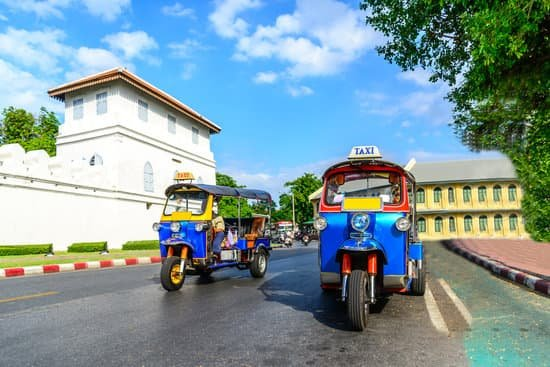threewheel: (312, 145, 427, 332), (152, 171, 272, 292)
